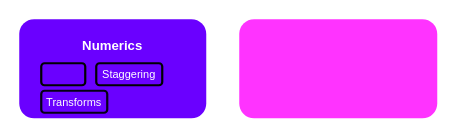
This 455x136 diagram has some shape labels left out. The shapes that lost their labels are listed below. From the top down, each one's centre as x and y in pixels, then its label:
At point (63, 74): "FDM".
At point (338, 68): "Helpers".
